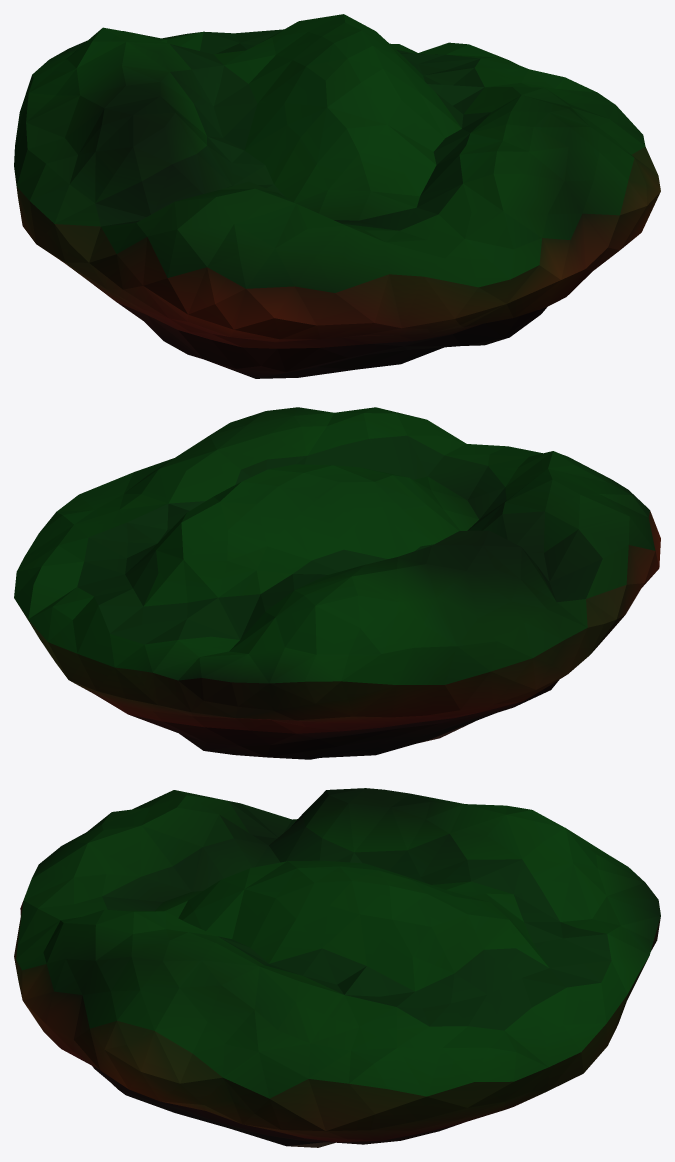
File: floating_island_rolling_hills.fbx
3 renders of one model, top to bottom at view 1: azimuth 30°, elevation 25°; view 2: azimuth 150°, elevation 25°; view 3: azimuth 270°, elevation 25°, orthographic. The views are drawn at different scales.
Visible parts, largest first — view 1: Icosphere; view 2: Icosphere; view 3: Icosphere.
Part boxes in pixels (box(x1,y1,x2,y2)): Icosphere: box(14, 14, 660, 378); Icosphere: box(14, 407, 660, 759); Icosphere: box(14, 788, 660, 1147).
Bounding box in the file's own units: 2962 × 1439 × 3080.
